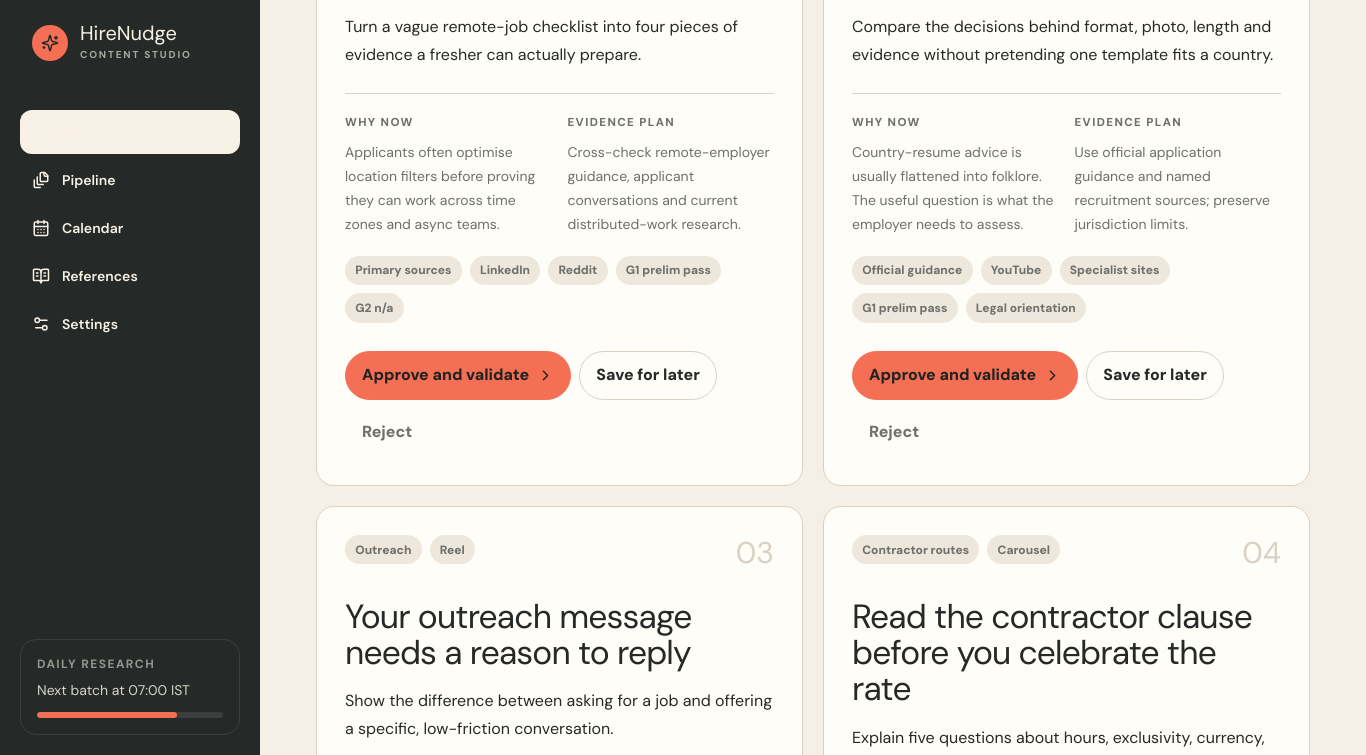
Test: Ideas page › shows four Instagram ideas and removes an approved idea from the wall
The image size is (1366, 755).
(page scrolled)
Click the button "Approve and validate" below "G2 n/a" at (458, 375), box x1=345 y1=351 x2=571 y2=400
(page scrolled)
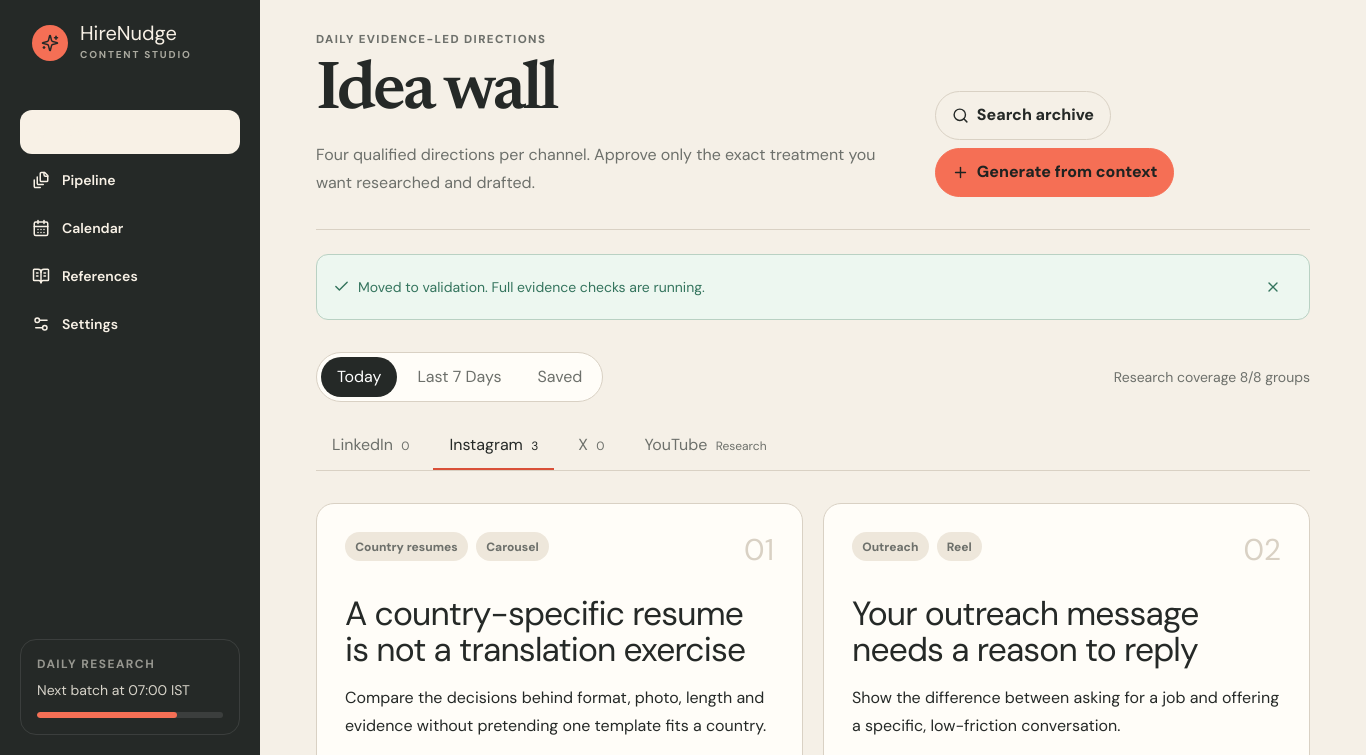
Expected: the text "Moved to validation. Full evidence checks are running." is shown, x1=333 y1=277 x2=705 y2=297
